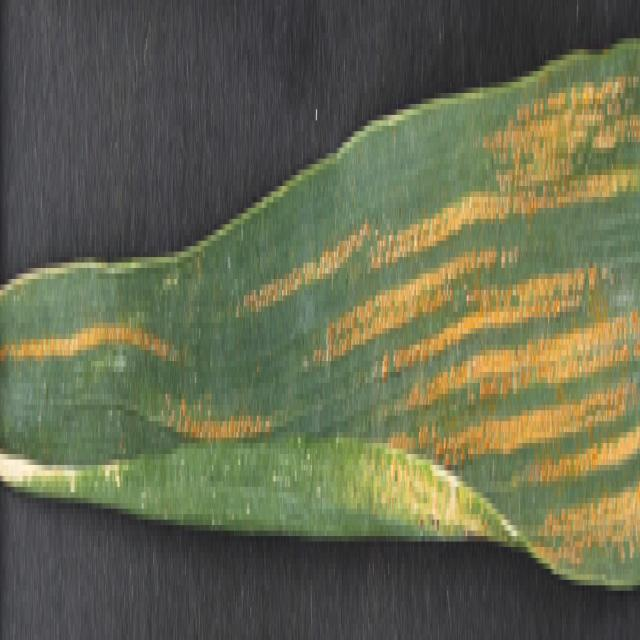leaf rust: (252, 71, 640, 574), (0, 208, 246, 443)
